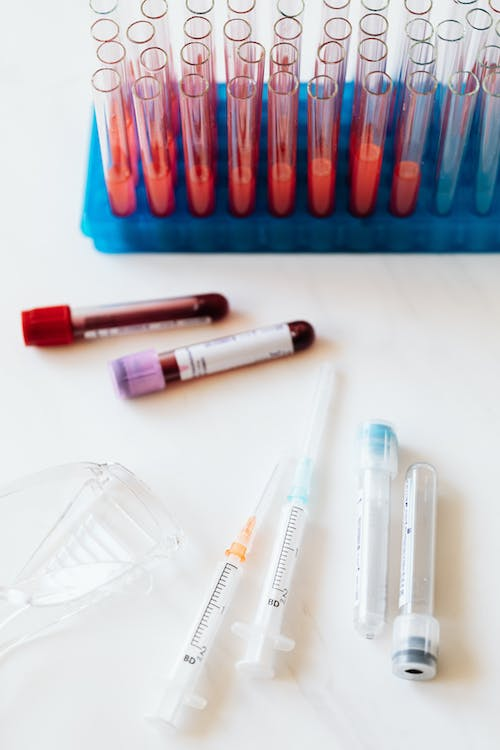blood: (156, 317, 317, 386), (74, 290, 232, 343), (387, 155, 426, 219), (350, 144, 382, 217), (141, 160, 175, 219), (305, 155, 338, 215), (182, 163, 217, 218), (140, 129, 175, 181), (267, 160, 298, 217), (104, 166, 137, 219), (224, 166, 258, 217), (107, 105, 134, 166)
